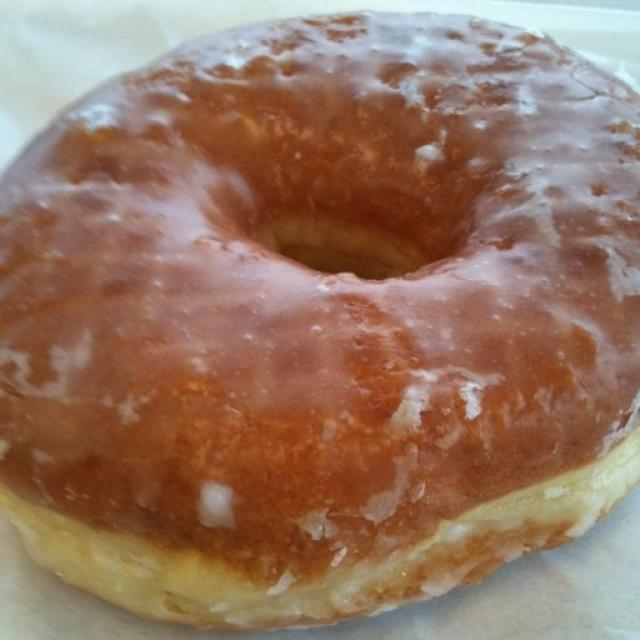Donuts: (7, 11, 640, 640)
